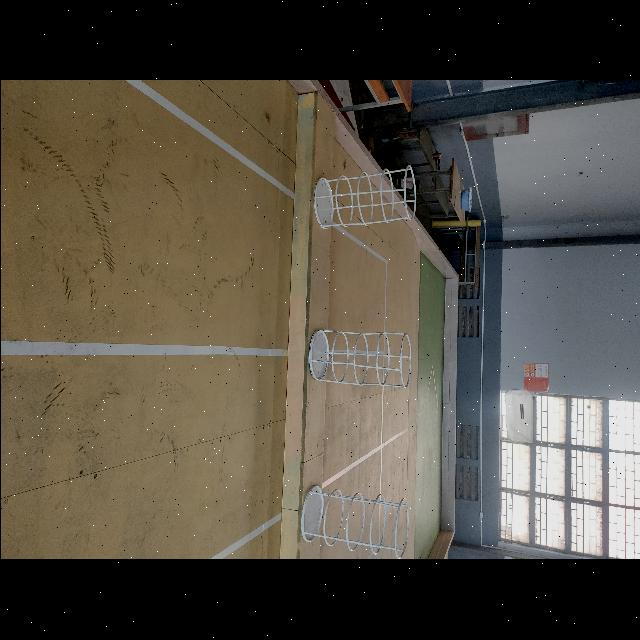S: (299, 483, 409, 560), (312, 165, 416, 229), (308, 328, 410, 389)
